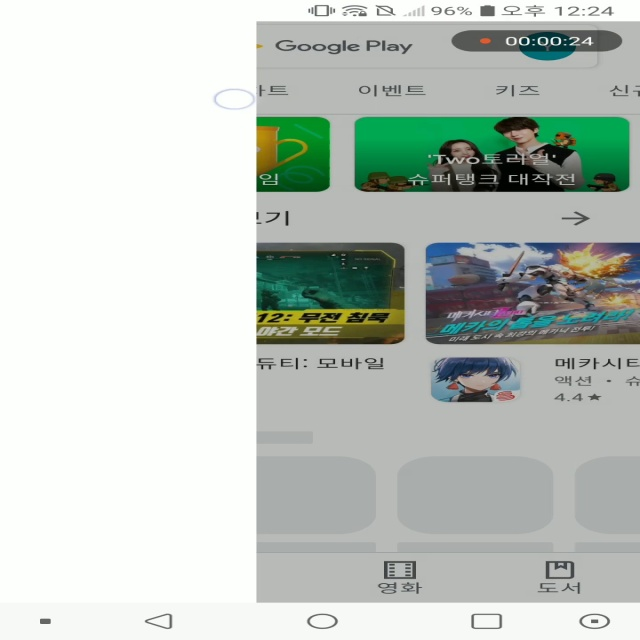Cursor: (213, 88, 257, 111)
